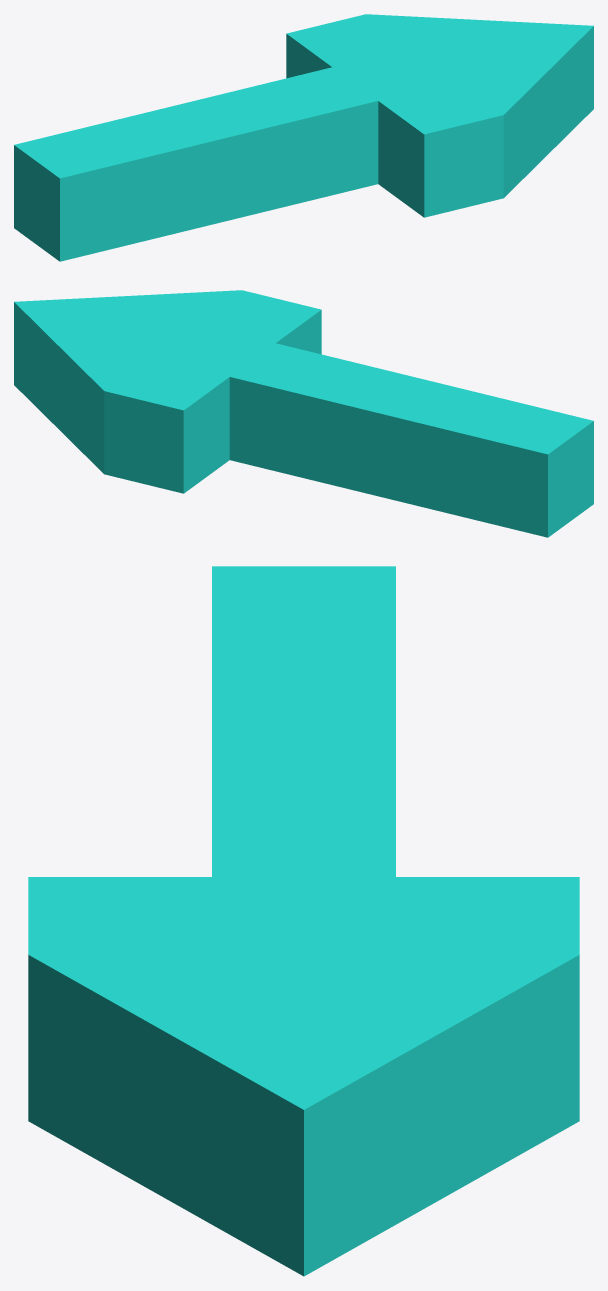
Rendered from Start.fbx.
The picture shows the model from 3 angles, top to bottom: view 1: azimuth 30°, elevation 25°; view 2: azimuth 150°, elevation 25°; view 3: azimuth 270°, elevation 25°; orthographic projection. The views are drawn at different scales.
Parts seen in each view (by area): view 1: Cube.131; view 2: Cube.131; view 3: Cube.131.
Boxes of the visible parts, x1=… form: Cube.131: x1=14, y1=14, x2=593, y2=261; Cube.131: x1=14, y1=290, x2=593, y2=537; Cube.131: x1=28, y1=566, x2=579, y2=1276.
Size of the model in its own units: 84 by 12 by 36.
